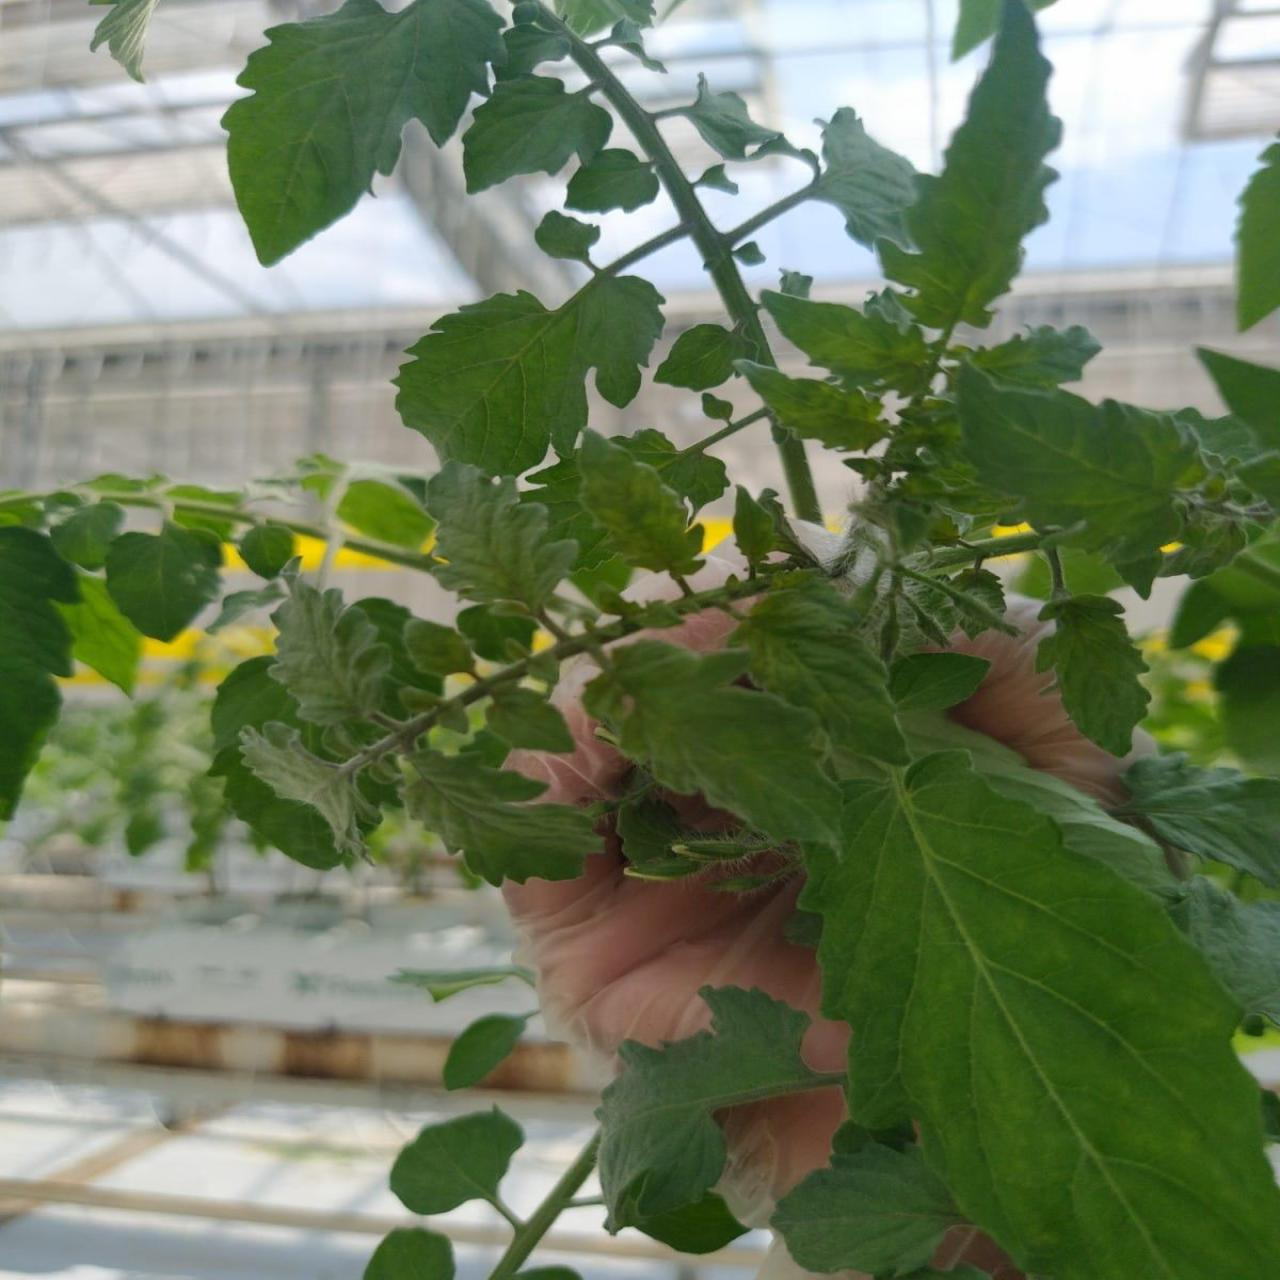T_L_H: (821, 754, 1280, 1280), (224, 1, 504, 266), (598, 989, 840, 1254), (399, 294, 588, 476), (771, 1141, 964, 1276), (1, 529, 81, 816), (108, 524, 224, 641), (578, 275, 663, 409), (654, 326, 758, 392)
T_L_R: (881, 1, 1061, 334), (584, 641, 840, 844), (958, 366, 1208, 564), (731, 576, 908, 764), (404, 751, 601, 886), (428, 464, 578, 611), (241, 724, 381, 859), (578, 431, 704, 576), (1039, 595, 1151, 756), (271, 581, 392, 726), (764, 291, 931, 394), (738, 361, 888, 451)
